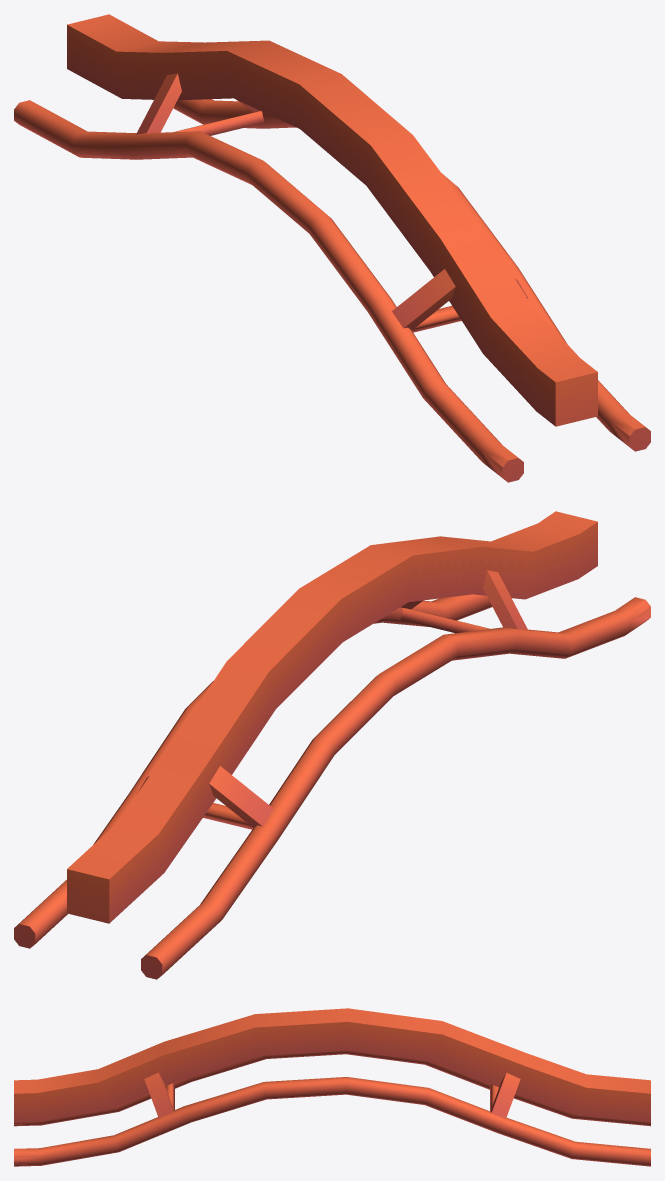
The model's file is coaster-hanging-straight-bump-up.glb.
3 views of the same model, one above another, from view 1: azimuth 30°, elevation 25°; view 2: azimuth 150°, elevation 25°; view 3: azimuth 270°, elevation 25° (orthographic). The views are drawn at different scales.
Parts seen in each view (by area): view 1: coaster-hanging-straight-bump-up; view 2: coaster-hanging-straight-bump-up; view 3: coaster-hanging-straight-bump-up.
Boxes of the visible parts, x1,y1,x2,y2 form: coaster-hanging-straight-bump-up: (14, 14, 650, 482); coaster-hanging-straight-bump-up: (14, 511, 650, 979); coaster-hanging-straight-bump-up: (14, 1008, 650, 1166).
Bounding box in the file's own units: 2.1 × 2.7 × 12.
1 material, 1 textured.
